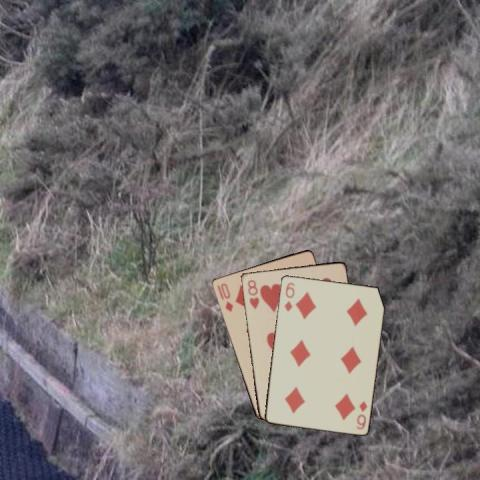10d: (217, 280, 234, 313)
6d: (353, 398, 369, 431), (281, 279, 296, 313)
8h: (245, 276, 260, 310)
